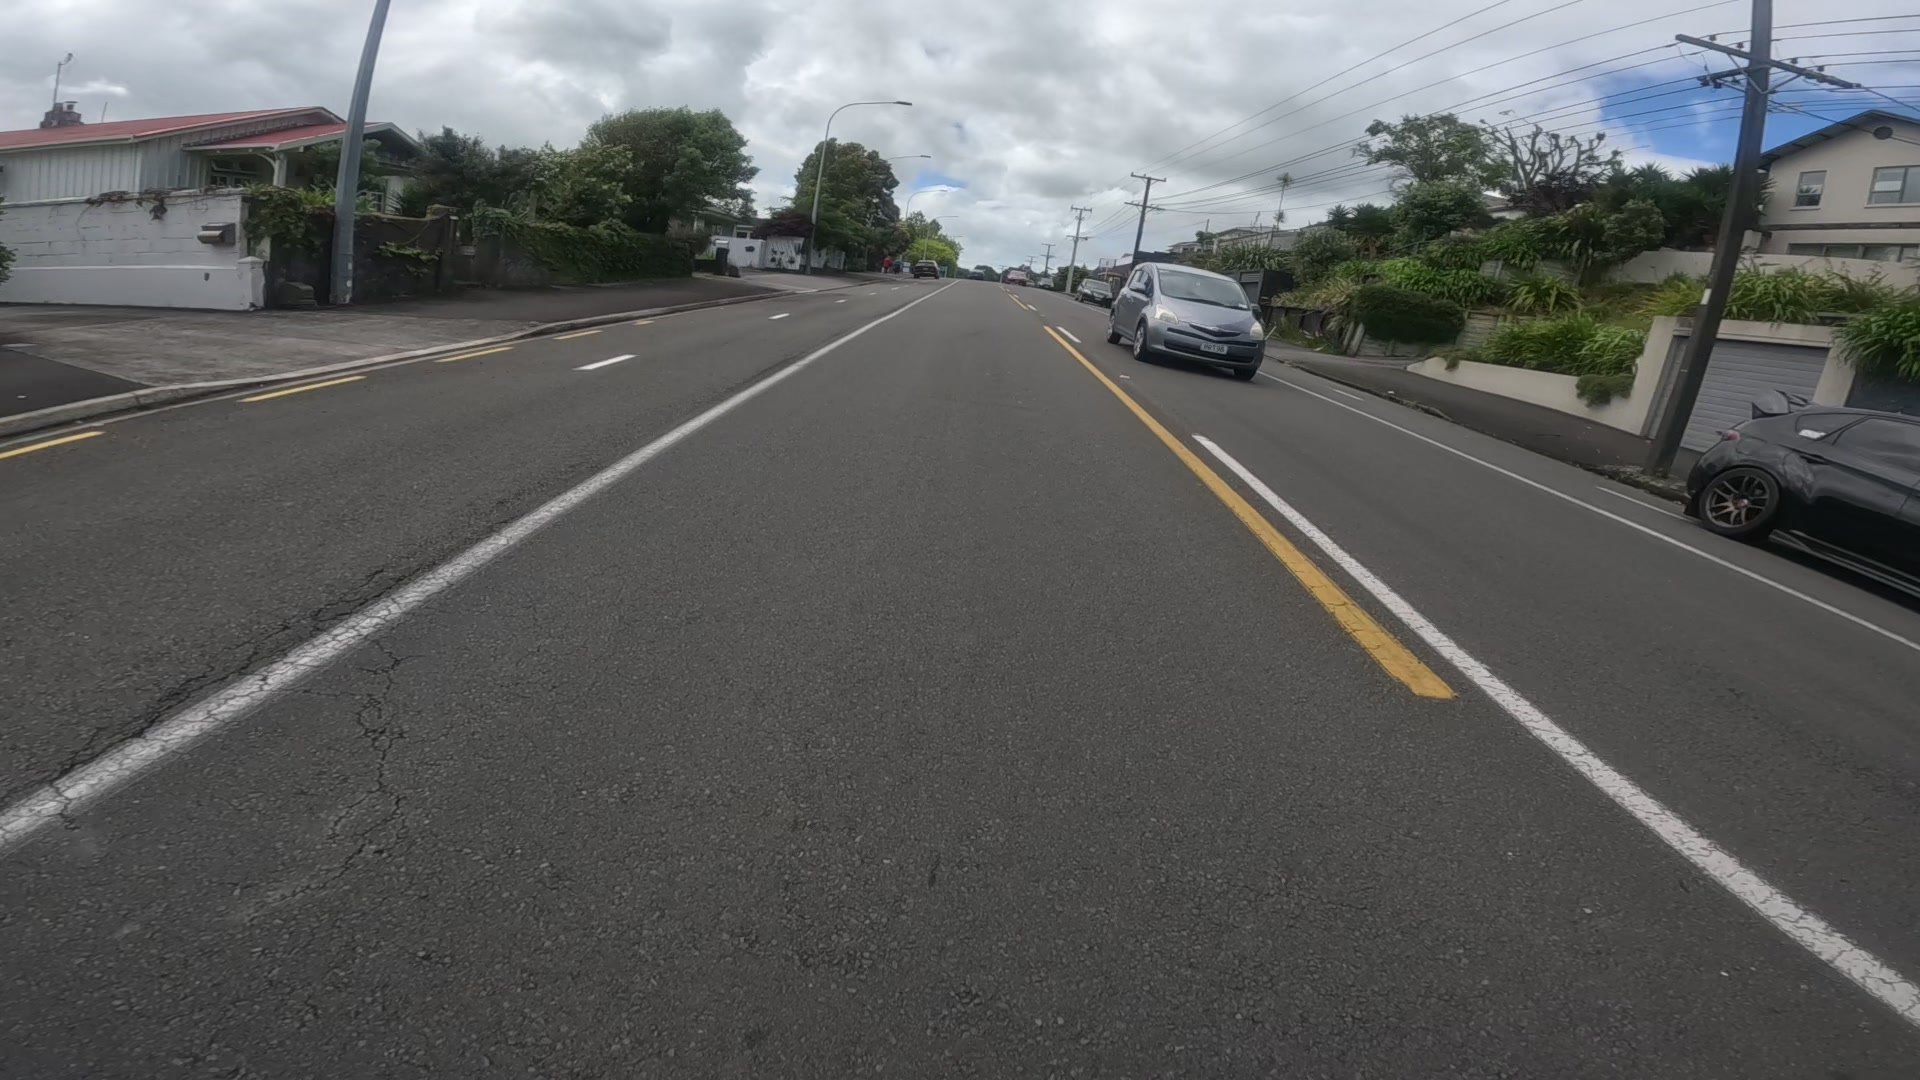Longitudinal_Cracking: (86, 547, 419, 762)
